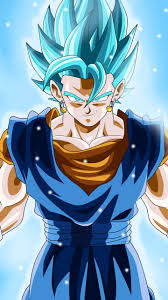Vegito: (40, 1, 137, 126)
